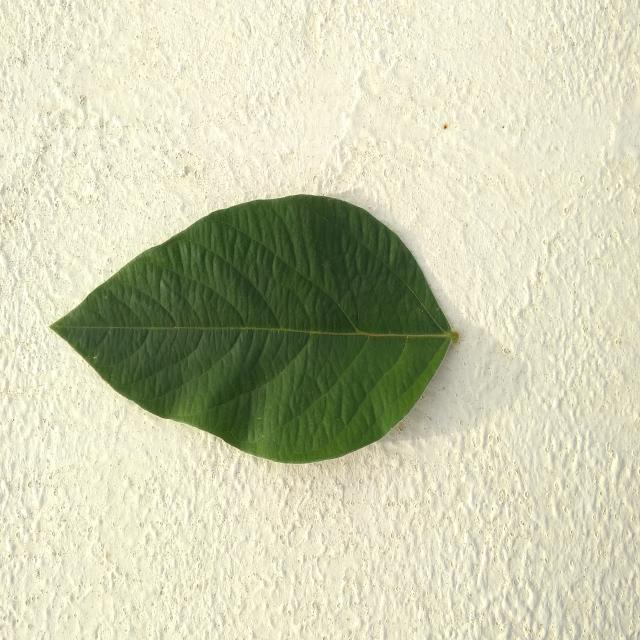leaf: (47, 192, 459, 464)
